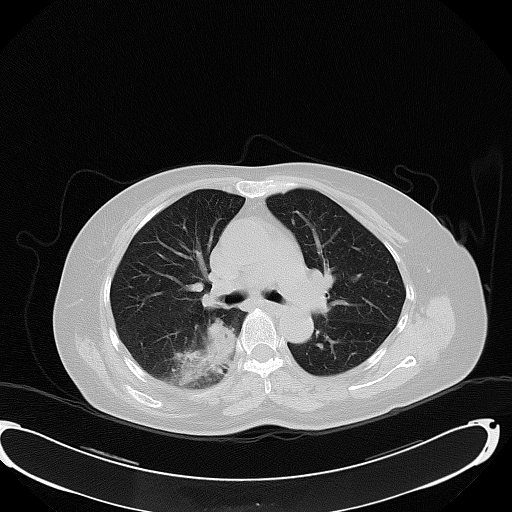nodule: (173, 317, 237, 386)
